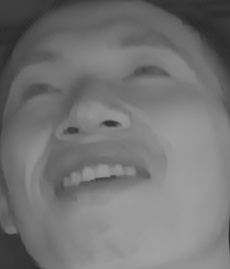eye: (120, 58, 173, 90), (14, 76, 64, 108)
mouth: (44, 148, 151, 207)
